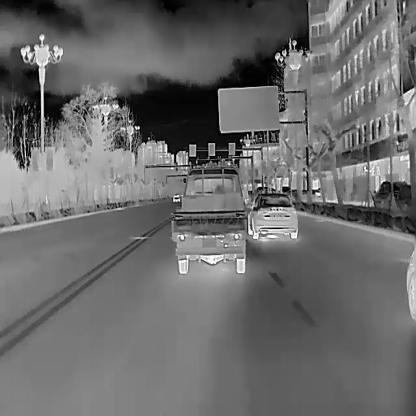car: (170, 166, 246, 272), (247, 193, 298, 238), (371, 181, 412, 207), (172, 194, 181, 203)
